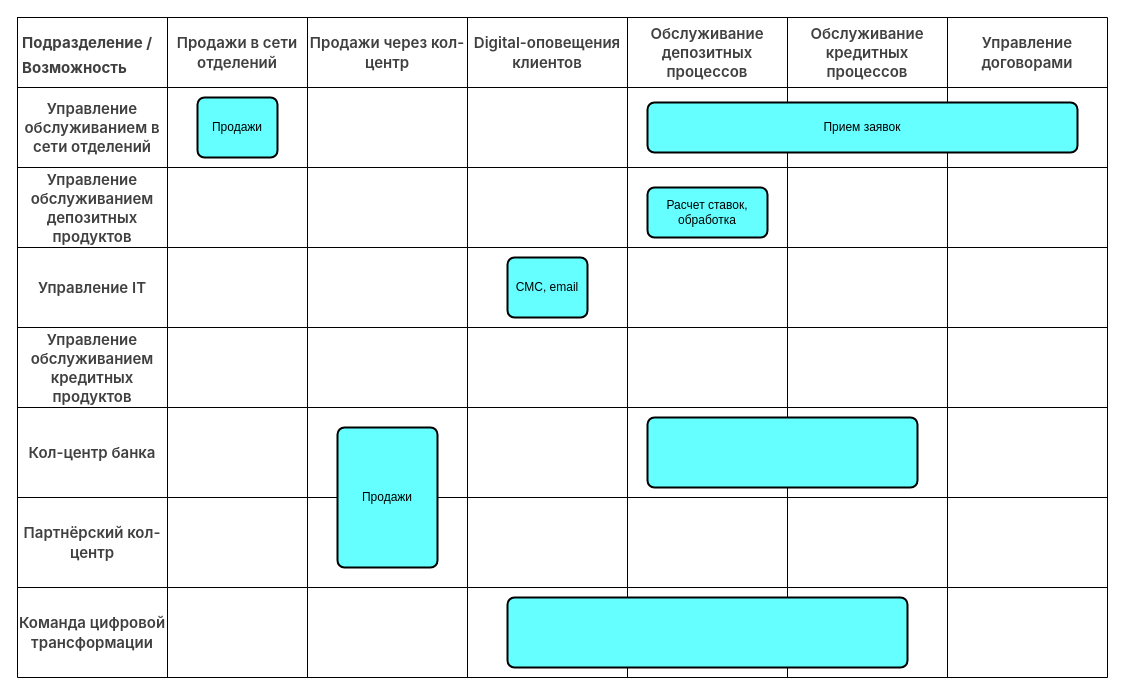
The diagram is 1125 pixels wide and 695 high, and some of its shapes have lost their labels. The centre of each missing label's shape, as x and y in pixels:
Консультации: [782,452]
Планирование: [707,632]
